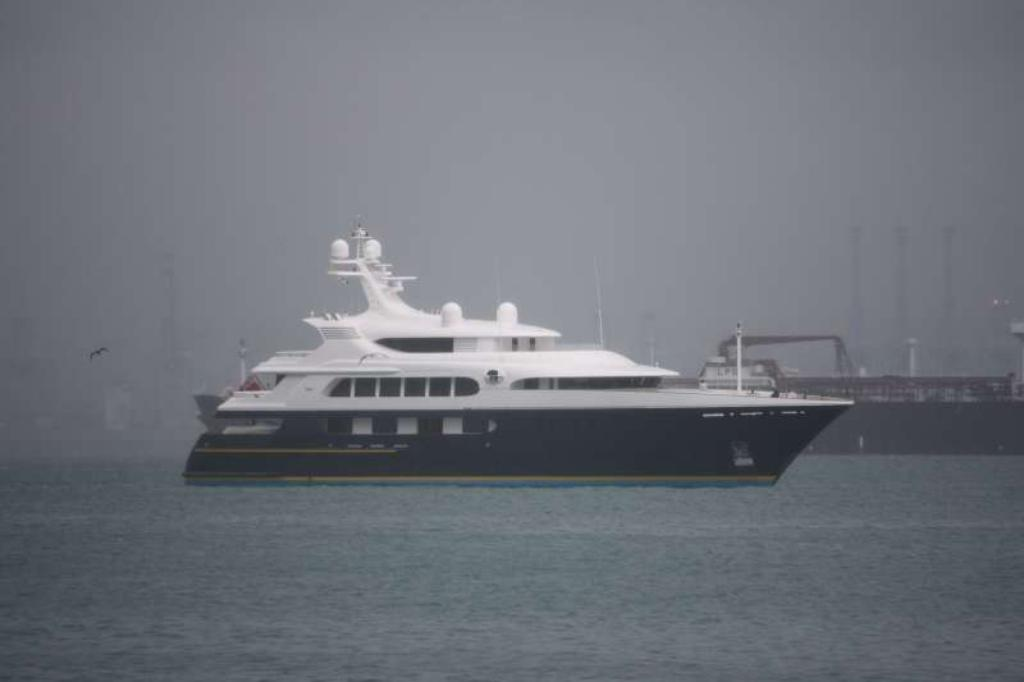PassengerShip: (168, 222, 856, 494)
